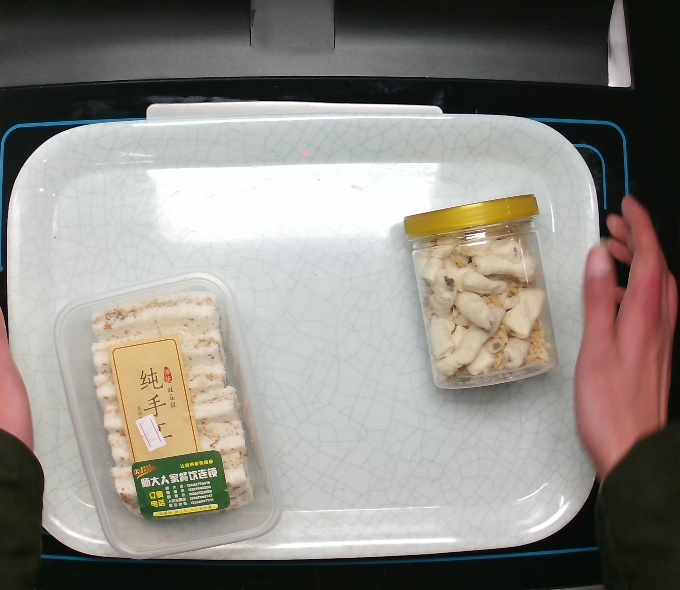wcq-GuiHuaGao: (50, 264, 283, 562)
wcq-MaiYaTang: (399, 189, 566, 393)
